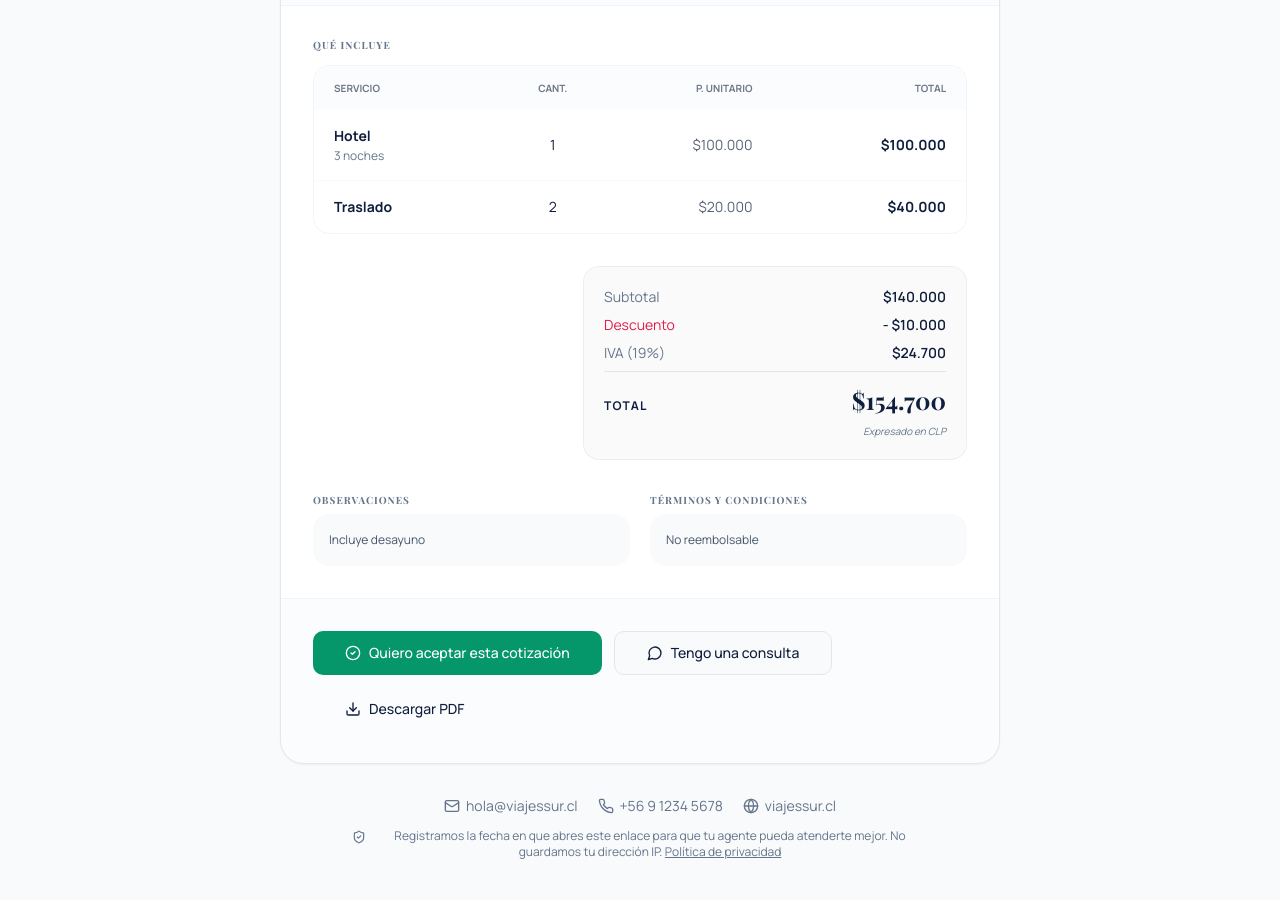
PublicQuotation › una consulta es obligatoria de escribir y se envía con el nombre
(page scrolled)
Click the button "Tengo una consulta".
click(723, 653)  # box 614,631 -> 832,675
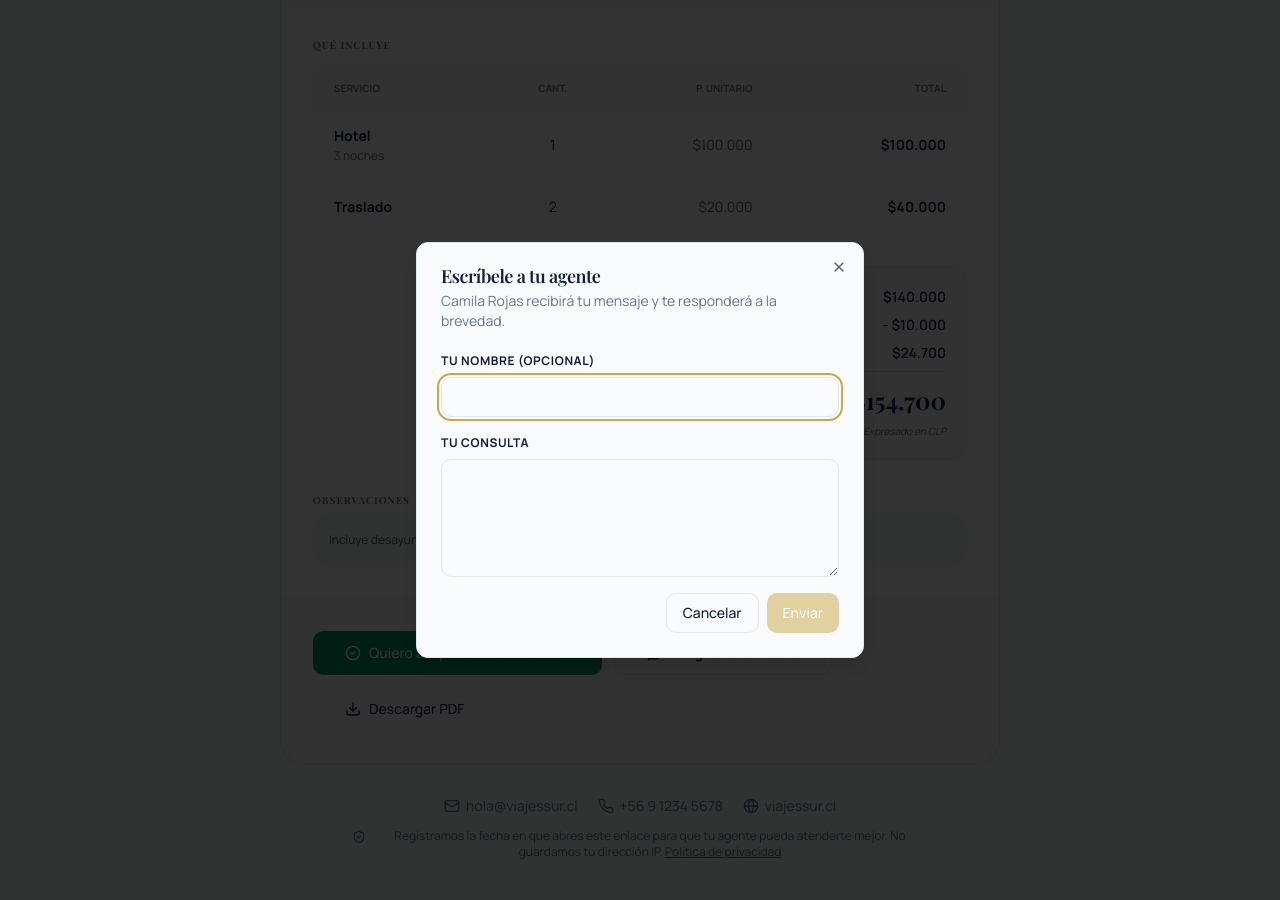
expect the button "Enviar" is disabled: met, box 767,593 -> 839,633
Type "  ¿Incluye traslados?  " into the text box labelled "Tu consulta".
click(640, 518); type("  ¿Incluye traslados?  ")  # box 441,459 -> 839,577
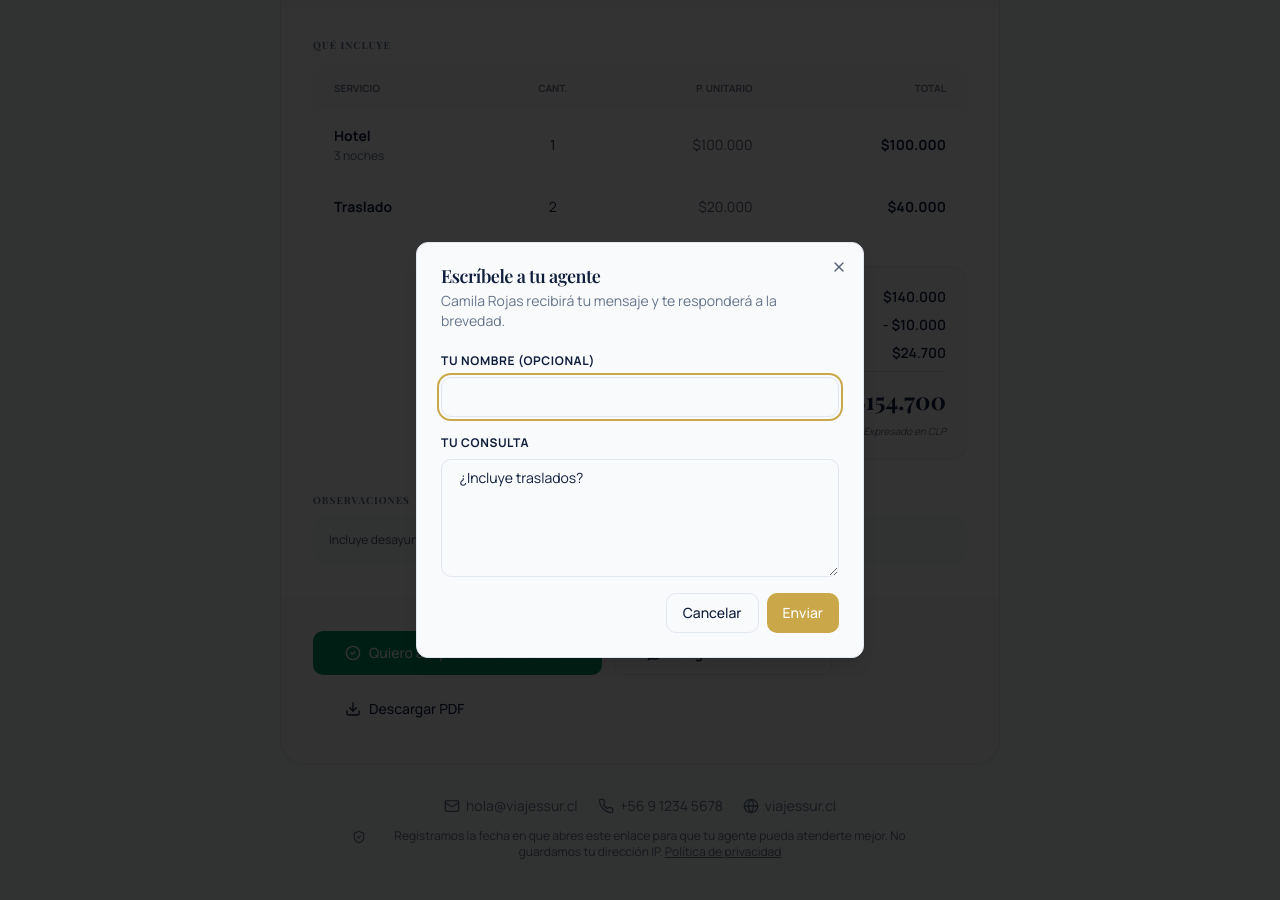
Type "Ana" into the field labelled "Tu nombre (opcional)".
click(640, 397); type("Ana")  # box 441,377 -> 839,417
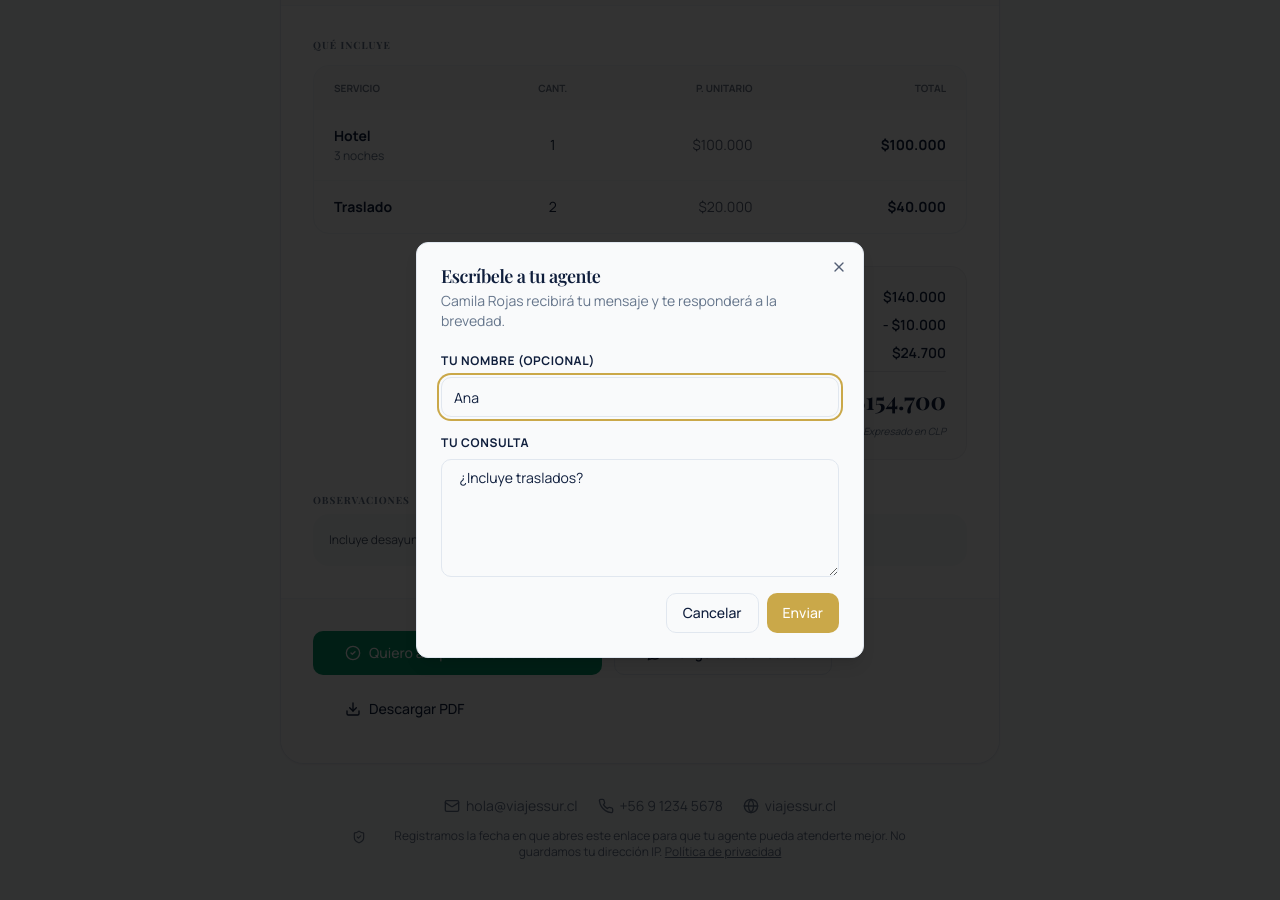
expect the button "Enviar" is enabled: met
Click the button "Enviar".
click(803, 613)  # box 767,593 -> 839,633
(page scrolled)
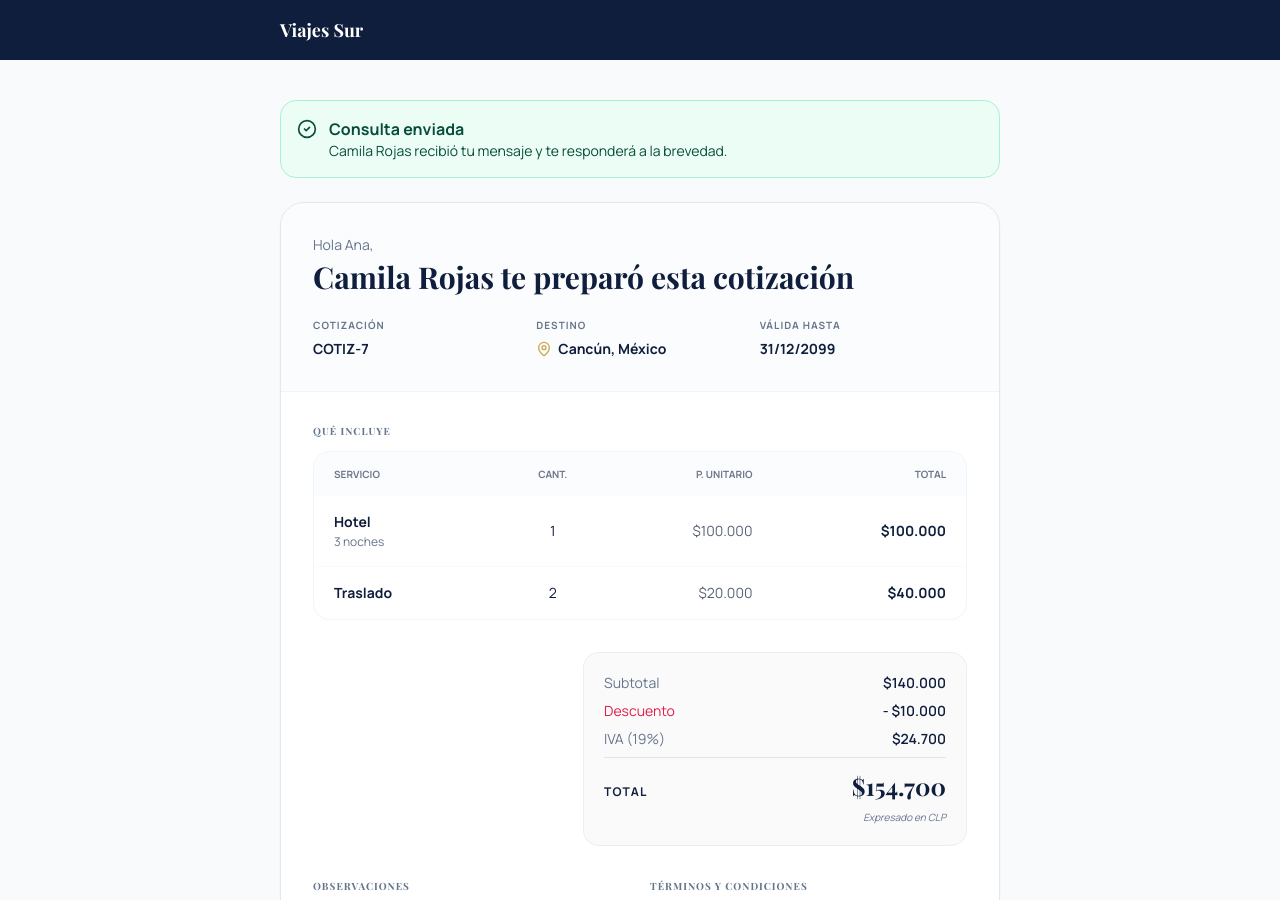
expect the text "Consulta enviada" is shown: met, box 329,118 -> 464,140
